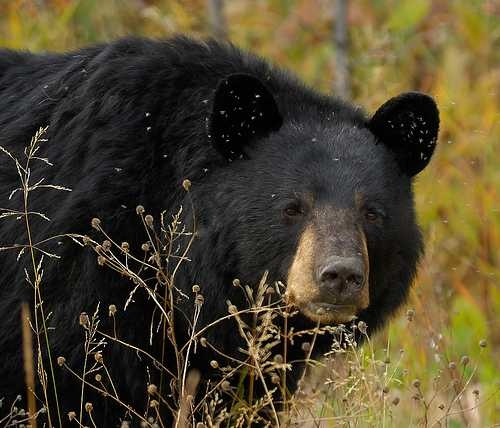bear: (269, 195, 397, 324), (187, 60, 315, 188), (323, 76, 451, 204)
